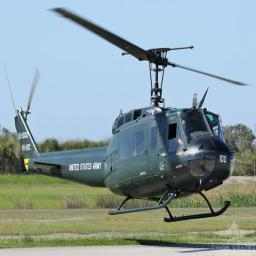helicopter: (4, 6, 251, 230)
